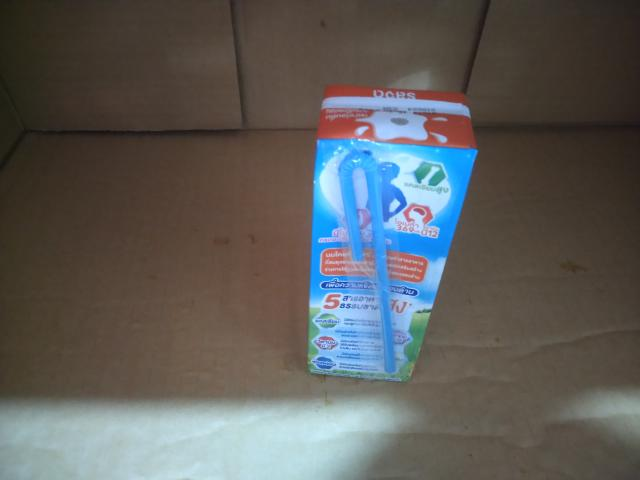drink_box: (304, 71, 471, 397)
